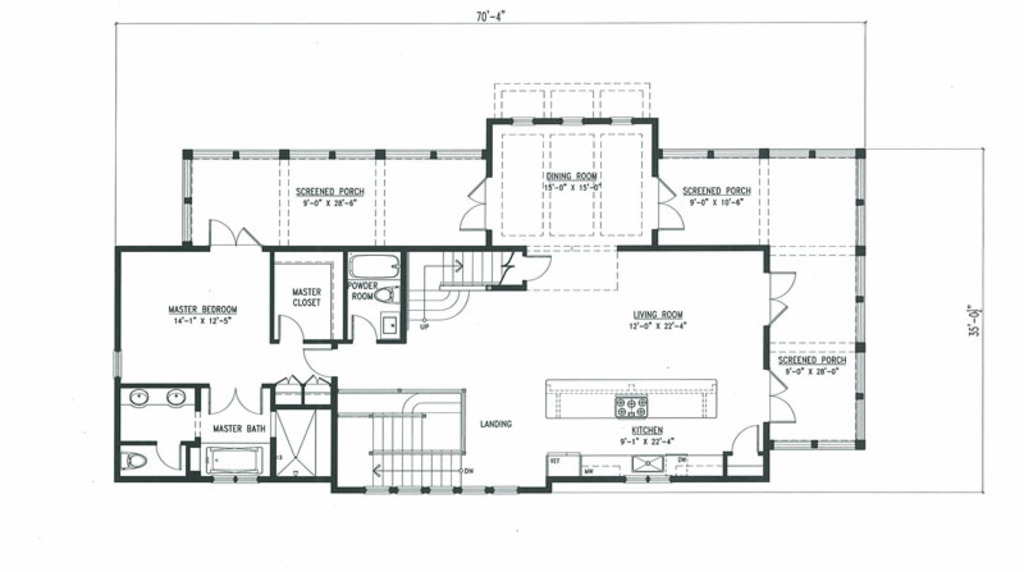door: (208, 384, 268, 417), (767, 364, 799, 425), (655, 177, 689, 234), (207, 219, 261, 253), (457, 178, 489, 231), (768, 268, 797, 325), (270, 313, 310, 345), (303, 345, 336, 382), (151, 440, 182, 472), (349, 314, 380, 344), (733, 422, 760, 456), (525, 253, 552, 282)
kitchen_bar: (542, 379, 722, 420)
large_sink: (118, 449, 151, 475), (371, 281, 401, 307)
small_sink: (120, 387, 195, 409)
stairs: (336, 411, 469, 487), (401, 251, 517, 332)
tub: (199, 445, 272, 478), (344, 252, 401, 283)
windows: (508, 114, 644, 130), (623, 472, 674, 487), (110, 347, 126, 381)
